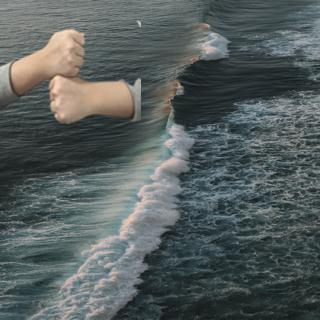CAREFUL: (10, 27, 133, 124)
